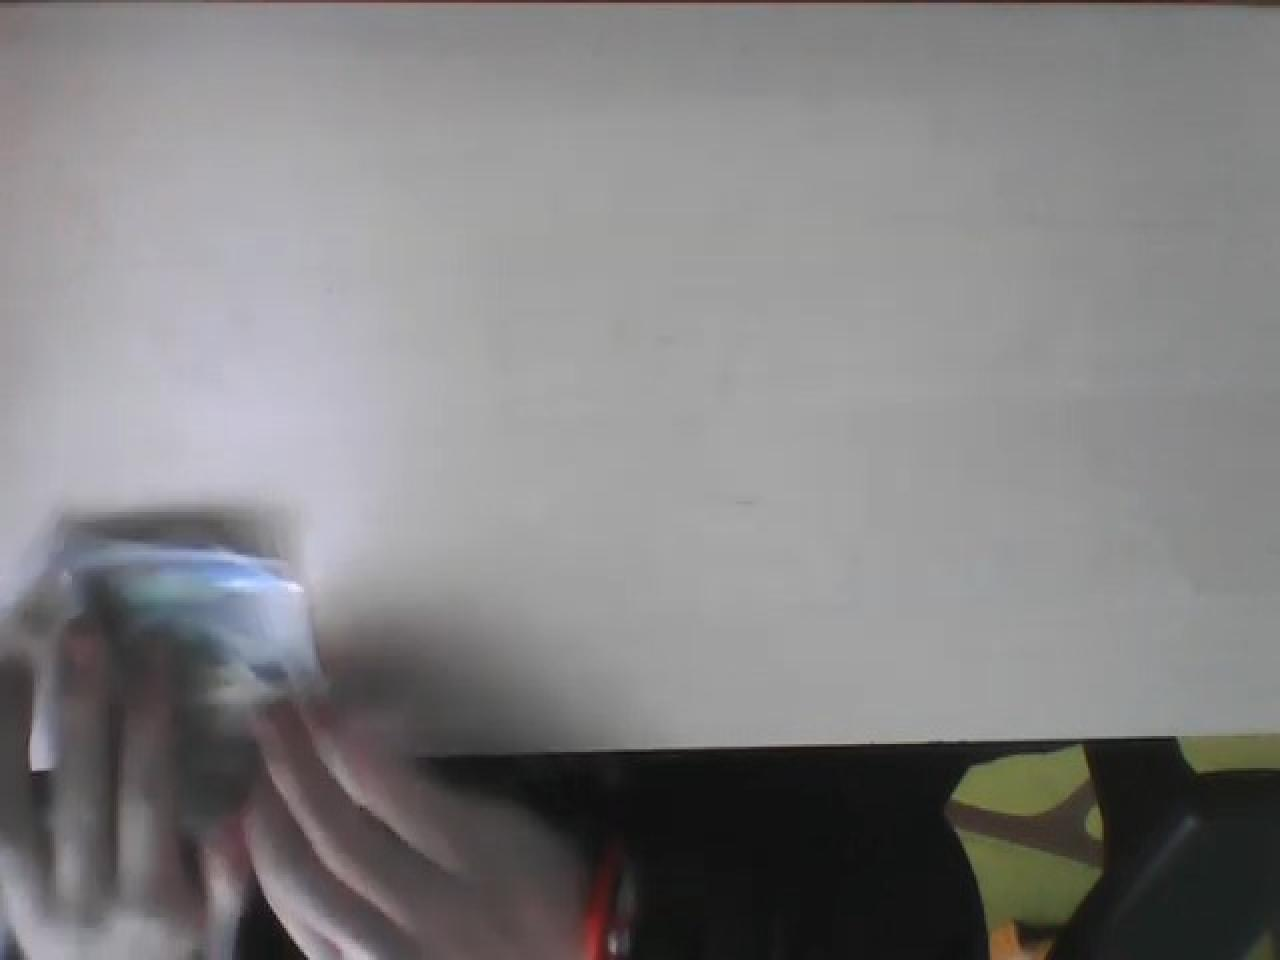100leva: (2, 530, 328, 957)
